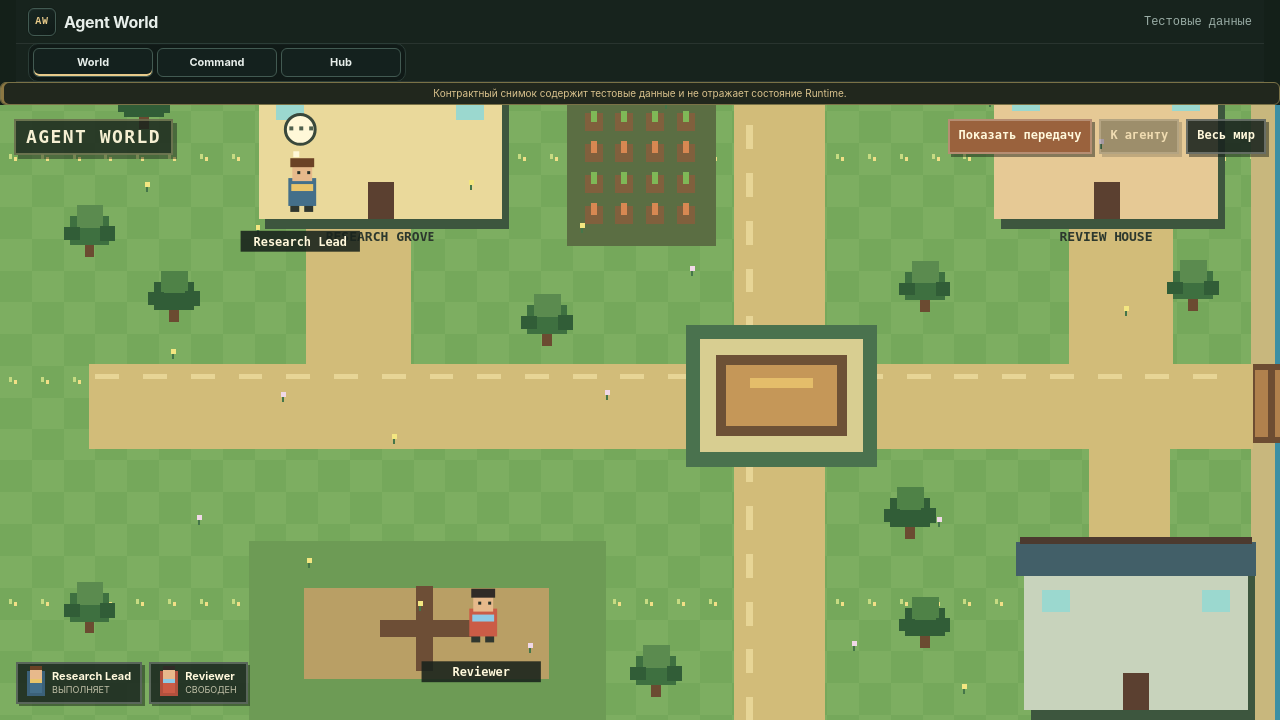
Scenario: ControlCenter › keeps the Agent World hierarchy and Russian operator copy across topbar, World and Command
Expected: the text "Тестовые данные" is shown, [1144,12,1252,30]
What coordinates should you click on to do the following:
click the tab "Command"
I would click on:
 (217, 62)
Its box is [157,48,277,77].
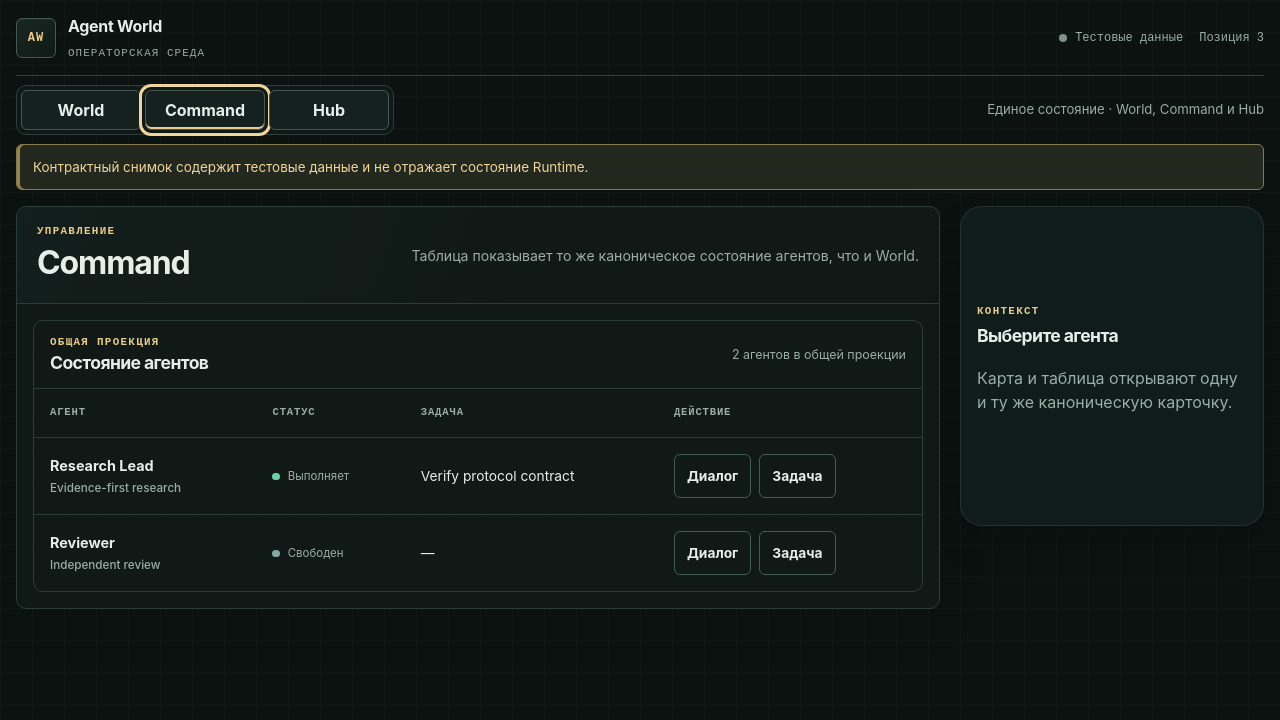
Expected: the heading "Command" is shown, [37,240,190,288]
Expected: the text "Общая проекция" is shown, [50,336,160,348]
Expected: the column heading "Агент" is shown, [34,390,256,438]
